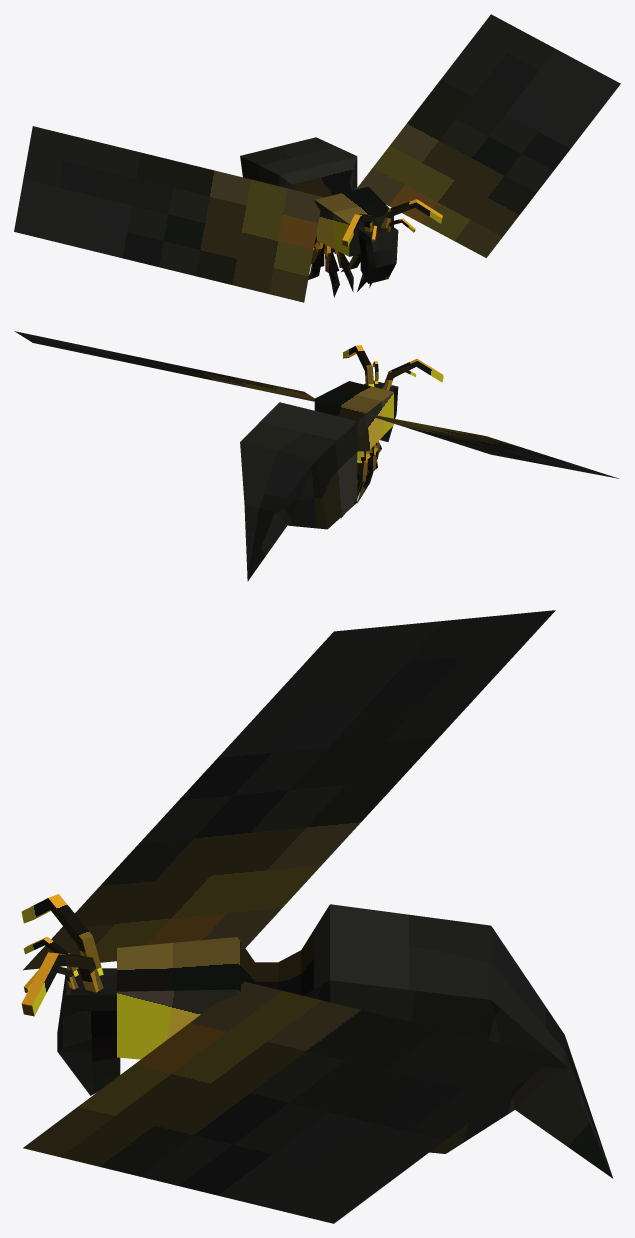
Rendered from vespidqueen.obj.
The picture shows the model from 3 angles, top to bottom: view 1: azimuth 30°, elevation 25°; view 2: azimuth 150°, elevation 25°; view 3: azimuth 270°, elevation 25°; orthographic projection. The views are drawn at different scales.
Parts seen in each view (by area): view 1: WingRight, WingLeft, Body, Head, LegRightMiddle, LegRightBack; view 2: Body, WingLeft, WingRight, Head, LegRightBack, LegRightMiddle; view 3: WingLeft, WingRight, Body, Head.
Boxes of the visible parts, left/top/right/bottom form: WingRight: left=14, top=126, right=322, bottom=302; WingLeft: left=356, top=14, right=620, bottom=257; Body: left=240, top=137, right=393, bottom=256; Head: left=342, top=199, right=442, bottom=283; LegRightMiddle: left=323, top=244, right=339, bottom=297; LegRightBack: left=308, top=240, right=324, bottom=279; Body: left=240, top=381, right=393, bottom=581; WingLeft: left=14, top=331, right=321, bottom=403; WingRight: left=358, top=412, right=619, bottom=478; Head: left=343, top=345, right=443, bottom=441; LegRightBack: left=340, top=451, right=369, bottom=518; LegRightMiddle: left=357, top=444, right=377, bottom=503; WingLeft: left=23, top=981, right=555, bottom=1223; WingRight: left=23, top=610, right=555, bottom=970; Body: left=117, top=904, right=613, bottom=1178; Head: left=21, top=894, right=120, bottom=1095.
Bounding box in the file's own units: 7.91 × 2.15 × 3.34.
